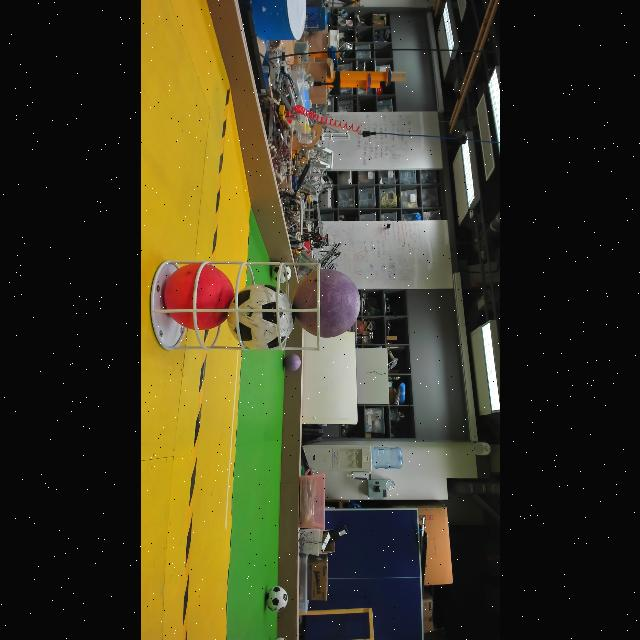P: (290, 268, 362, 340), (282, 352, 300, 372)
R: (160, 262, 234, 332)
S: (147, 258, 323, 354)
